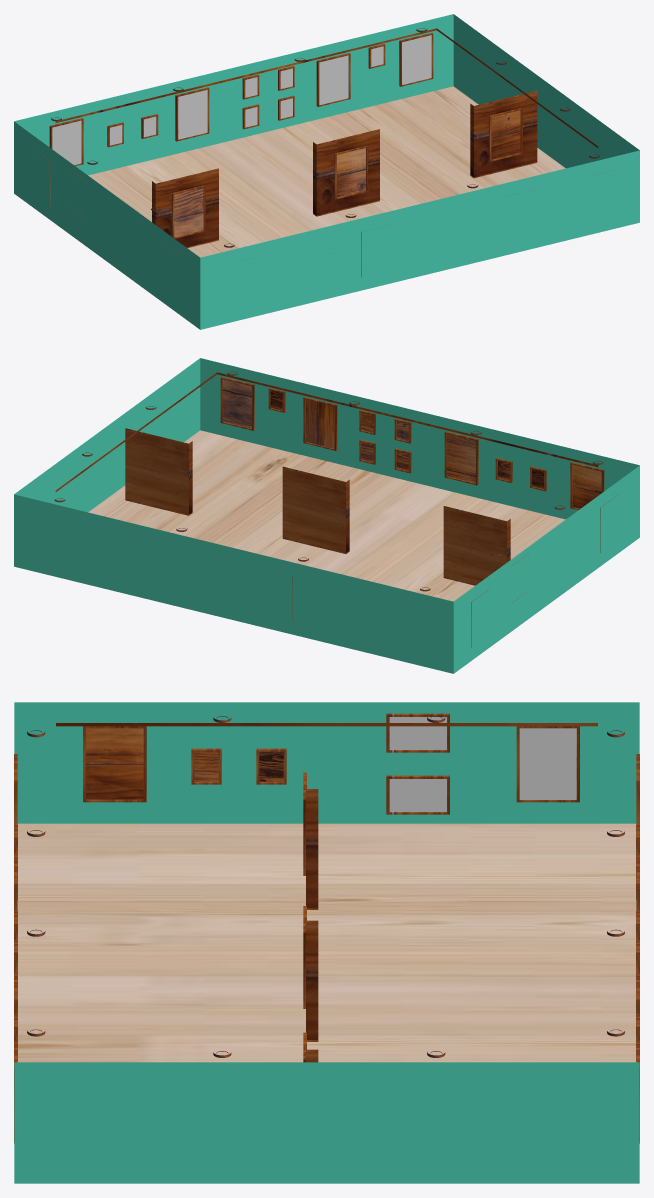
File: TexturaQuadro.glb
The picture shows the model from 3 angles, top to bottom: view 1: azimuth 30°, elevation 25°; view 2: azimuth 150°, elevation 25°; view 3: azimuth 270°, elevation 25°; orthographic projection. The views are drawn at different scales.
Visible parts, largest first — view 1: Parede, PLANE_003, PLANE_001, PLANE_008, PLANE_011; view 2: Parede; view 3: Parede, PLANE_012, PLANE_014, PLANE_013, Lights.
Boxes of the visible parts, x1,y1,x2,y2 form: Parede: (14,14,639,329); PLANE_003: (319,55,348,105); PLANE_001: (402,35,431,84); PLANE_008: (178,90,207,139); PLANE_011: (52,120,81,164); Parede: (14,358,639,673); Parede: (14,702,639,1183); PLANE_012: (519,728,576,799); PLANE_014: (389,779,446,811); PLANE_013: (389,717,446,749); Lights: (27,716,624,1057).
Bounding box in the file's own units: 2764 × 447 × 2029.
4 materials, 2 textured.
